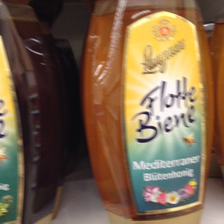honey: (80, 1, 218, 223)
